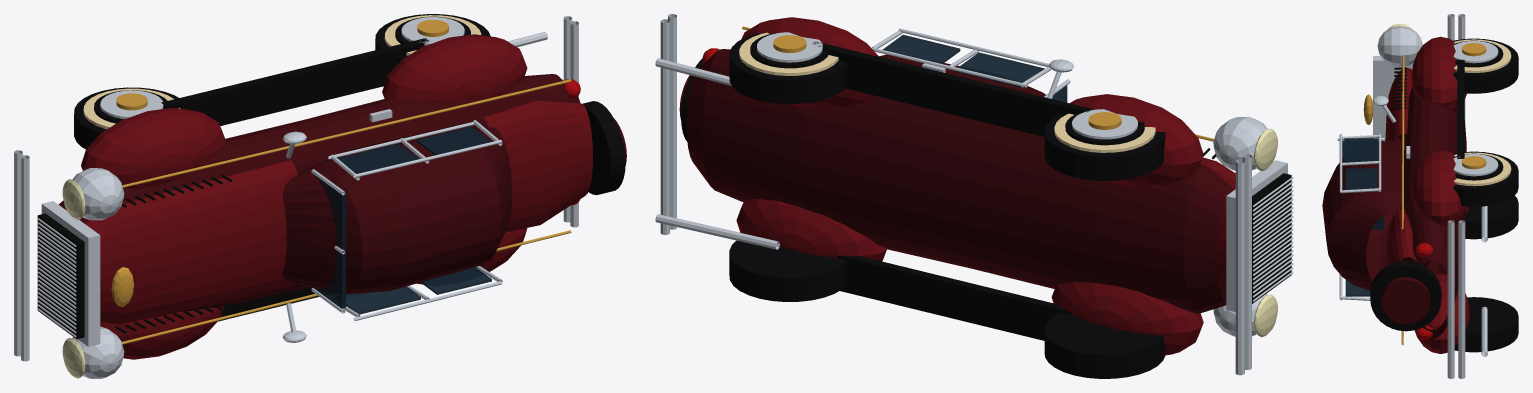
The model's file is Luxury_1930s_Coupe.obj.
The picture shows the model from 3 angles, left to right: view 1: azimuth 30°, elevation 25°; view 2: azimuth 150°, elevation 25°; view 3: azimuth 270°, elevation 25°; orthographic projection. The views are drawn at different scales.
Visible parts, largest first — view 1: roof_cabin, long_bonnet, coachbuilt_body, rear_trunk, running_board_1, fender_-1.65_1, fender_1.65_1, radiator_dark, fender_-1.65_-1, radiator_chrome, rear_spare_tire, headlamp_1 (+26 smaller); view 2: coachbuilt_body, running_board_1, running_board_-1, tire_-1.65_-1, fender_-1.65_-1, tire_1.65_-1, fender_1.65_-1, fender_-1.65_1, tire_-1.65_1, tire_1.65_1, fender_1.65_1, radiator_dark (+23 smaller); view 3: roof_cabin, coachbuilt_body, fender_1.65_1, fender_-1.65_1, tire_1.65_-1, rear_spare_tire, spare_cover, tire_-1.65_-1, tire_1.65_1, tire_-1.65_1, headlamp_1, fender_1.65_-1 (+28 smaller).
Part boxes in pixels (left/top/right/bottom): roof_cabin: left=282, top=126, right=512, bottom=294; long_bonnet: left=84, top=160, right=297, bottom=324; coachbuilt_body: left=58, top=74, right=580, bottom=322; rear_trunk: left=483, top=100, right=592, bottom=231; running_board_1: left=161, top=38, right=429, bottom=125; fender_-1.65_1: left=81, top=107, right=225, bottom=188; fender_1.65_1: left=382, top=34, right=527, bottom=103; radiator_dark: left=37, top=213, right=84, bottom=338; fender_-1.65_-1: left=100, top=306, right=224, bottom=359; radiator_chrome: left=41, top=201, right=100, bottom=346; rear_spare_tire: left=583, top=101, right=625, bottom=195; headlamp_1: left=72, top=168, right=124, bottom=220; coachbuilt_body: left=686, top=49, right=1234, bottom=313; running_board_1: left=813, top=41, right=1092, bottom=136; running_board_-1: left=837, top=255, right=1070, bottom=340; tire_-1.65_-1: left=1044, top=312, right=1165, bottom=378; fender_-1.65_-1: left=1051, top=282, right=1203, bottom=355; tire_1.65_-1: left=729, top=234, right=847, bottom=301; fender_1.65_-1: left=736, top=198, right=886, bottom=261; fender_-1.65_1: left=1070, top=94, right=1203, bottom=187; tire_-1.65_1: left=1044, top=114, right=1165, bottom=180; tire_1.65_1: left=729, top=33, right=847, bottom=104; fender_1.65_1: left=741, top=17, right=878, bottom=110; radiator_dark: left=1252, top=173, right=1291, bottom=303; roof_cabin: left=1322, top=138, right=1430, bottom=290; coachbuilt_body: left=1392, top=86, right=1466, bottom=339; fender_1.65_1: left=1411, top=150, right=1466, bottom=227; fender_-1.65_1: left=1411, top=36, right=1466, bottom=110; tire_1.65_-1: left=1454, top=297, right=1518, bottom=352; rear_spare_tire: left=1370, top=261, right=1441, bottom=331; spare_cover: left=1381, top=277, right=1430, bottom=324; tire_-1.65_-1: left=1465, top=195, right=1518, bottom=239; tire_1.65_1: left=1453, top=151, right=1518, bottom=206; tire_-1.65_1: left=1453, top=38, right=1518, bottom=93; headlamp_1: left=1377, top=26, right=1422, bottom=66; fender_1.65_-1: left=1414, top=273, right=1469, bottom=353.
Size of the model in its own units: 6.14 by 2.52 by 2.42.
